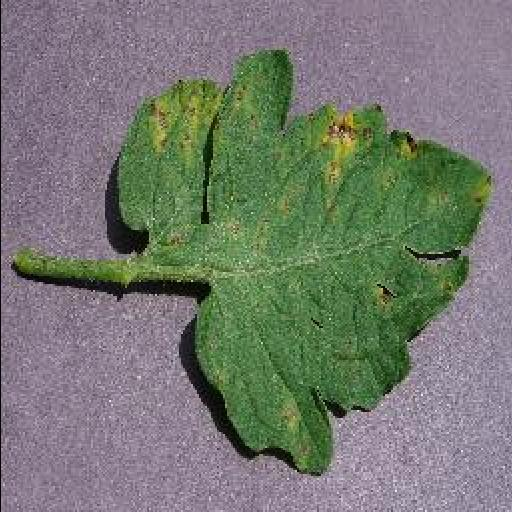disease_tomato: (112, 47, 494, 477)
